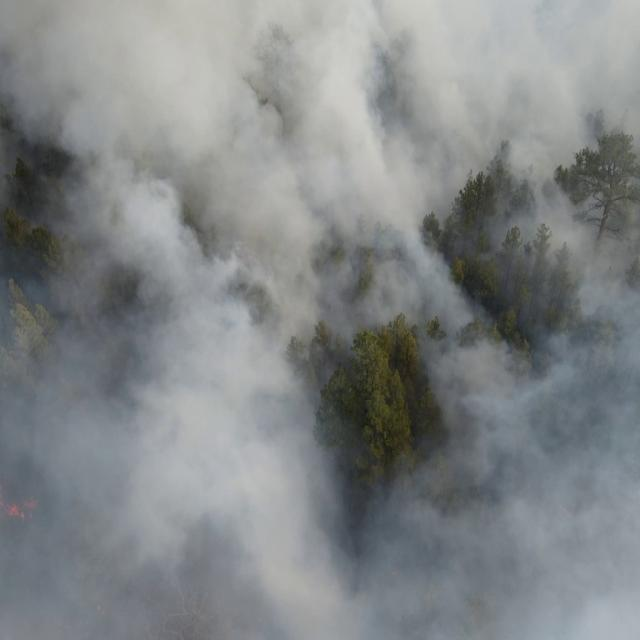fire: (0, 485, 40, 526)
smoke: (0, 0, 324, 640), (324, 0, 640, 329), (420, 329, 640, 640), (324, 462, 419, 640), (323, 328, 358, 377)
